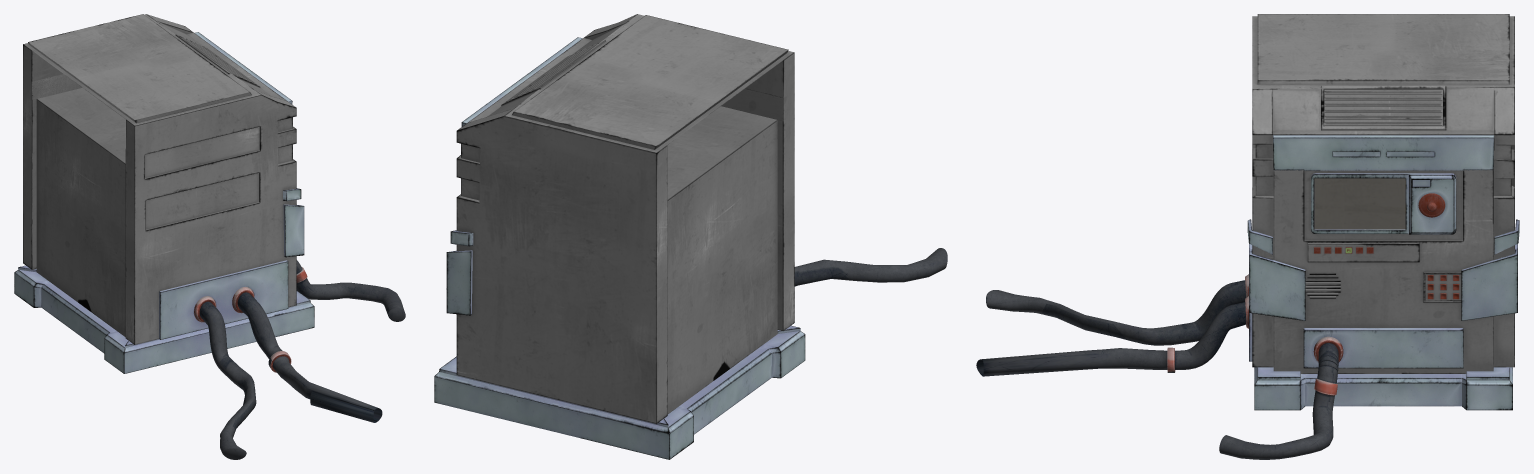
Rendered from panel_control.glb.
The picture shows the model from 3 angles, left to right: view 1: azimuth 30°, elevation 25°; view 2: azimuth 150°, elevation 25°; view 3: azimuth 270°, elevation 25°; orthographic projection. The views are drawn at different scales.
Visible parts, largest first — view 1: Cube.001; view 2: Cube.001; view 3: Cube.001.
Part boxes in pixels (<box>): Cube.001: <box>14,14,405,459</box>; Cube.001: <box>434,14,947,459</box>; Cube.001: <box>976,14,1519,459</box>.
Bounding box in the file's own units: 1148 × 976 × 1594.
Materials: 5 (5 with a texture image).
